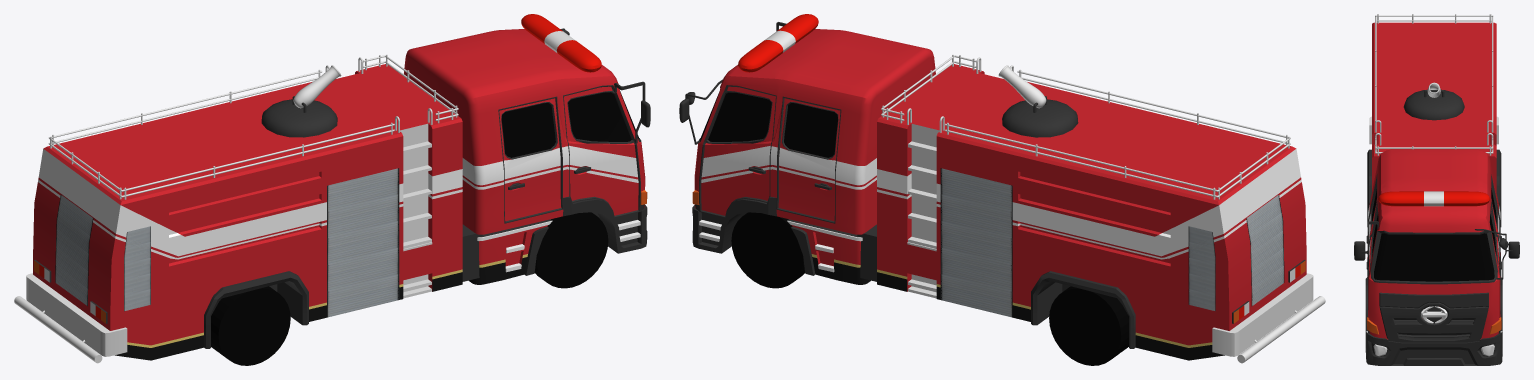
File: hino500damkar.glb
The picture shows the model from 3 angles, left to right: view 1: azimuth 30°, elevation 25°; view 2: azimuth 150°, elevation 25°; view 3: azimuth 270°, elevation 25°; orthographic projection. The views are drawn at different scales.
Visible parts, largest first — view 1: Cube.009, Cube, Cylinder.001, Cylinder, Cylinder.007, Cube.011, Cylinder.012, Cube.003, Cylinder.010, Cube.014, Cylinder.009; view 2: Cube.009, Cube, Cylinder.001, Cylinder, Cylinder.007, Cube.011, Cylinder.012, Cube.003, Cylinder.010, Cube.014, Cylinder.009; view 3: Cube, Cube.009, Cube.003, Cylinder.012, Cylinder.007, Cylinder.009, Cube.005, Cylinder.003, Cube.007, Cube.006, Cube.004, Cube.011 (+1 smaller).
Boxes of the visible parts, x1,y1,x2,y2 form: Cube.009: (33, 64, 482, 360); Cube: (404, 29, 647, 284); Cylinder.001: (211, 286, 290, 365); Cylinder: (534, 212, 608, 288); Cylinder.007: (48, 70, 394, 197); Cube.011: (26, 273, 127, 356); Cylinder.012: (261, 96, 337, 137); Cube.003: (521, 14, 601, 72); Cylinder.010: (14, 296, 102, 363); Cube.014: (293, 65, 341, 108); Cylinder.009: (363, 55, 458, 120); Cube.009: (857, 64, 1306, 360); Cube: (692, 29, 935, 284); Cylinder.001: (1049, 286, 1128, 365); Cylinder: (731, 212, 804, 288); Cylinder.007: (945, 70, 1290, 197); Cube.011: (1212, 273, 1313, 356); Cylinder.012: (1002, 96, 1078, 137); Cube.003: (738, 14, 818, 72); Cylinder.010: (1237, 296, 1325, 363); Cube.014: (998, 65, 1046, 108); Cylinder.009: (881, 55, 976, 120); Cube: (1365, 149, 1502, 365); Cube.009: (1367, 22, 1501, 226); Cube.003: (1378, 191, 1489, 206); Cylinder.012: (1403, 89, 1464, 120); Cylinder.007: (1375, 15, 1493, 122); Cylinder.009: (1375, 140, 1493, 153); Cube.005: (1354, 241, 1365, 260); Cylinder.003: (1375, 120, 1493, 145); Cube.007: (1508, 241, 1519, 258); Cube.006: (1475, 229, 1513, 279); Cube.004: (1359, 221, 1378, 275); Cube.011: (1369, 116, 1498, 144).
Bounding box in the file's own units: 6.48 × 2.7 × 2.07.
13 materials, 1 textured.
